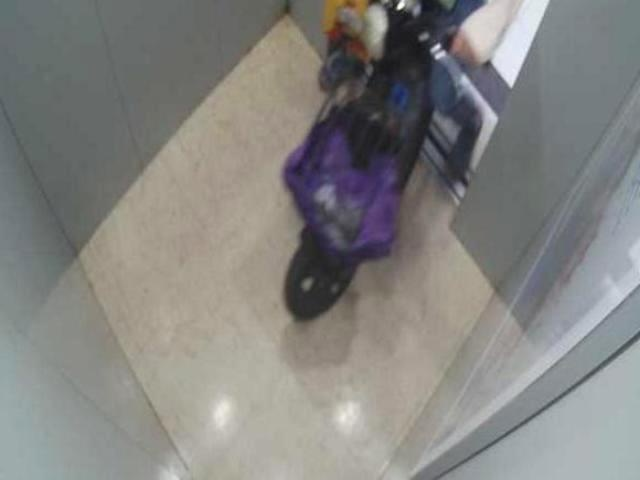electromobile: (276, 1, 478, 319)
